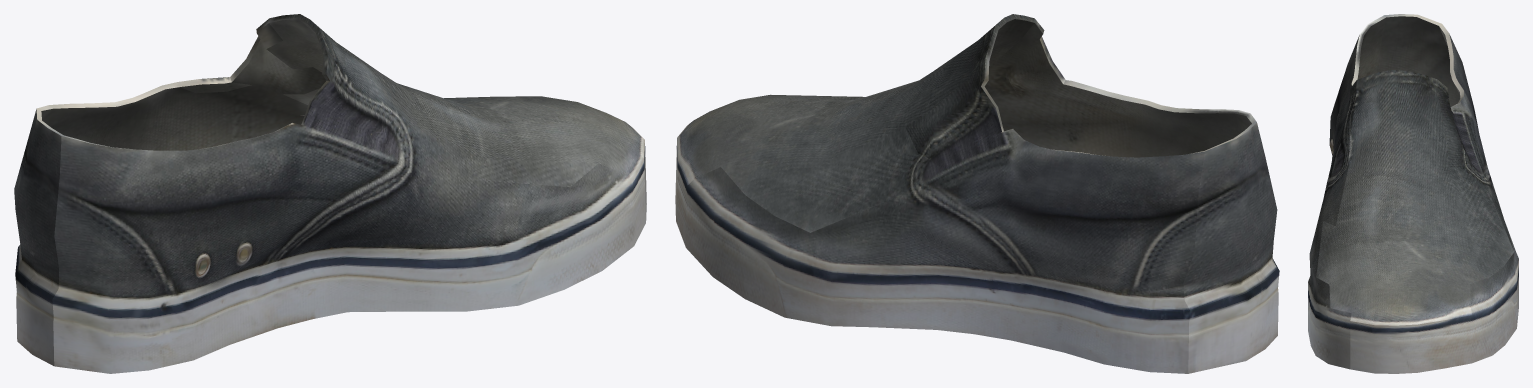
File: Leather_Shoe.glb
3 views of the same model, side by side, from view 1: azimuth 30°, elevation 25°; view 2: azimuth 150°, elevation 25°; view 3: azimuth 270°, elevation 25° (orthographic). The views are drawn at different scales.
Parts seen in each view (by area): view 1: origional; view 2: origional; view 3: origional.
Boxes of the visible parts, x1,y1,x2,y2 form: origional: [14, 14, 646, 373]; origional: [675, 14, 1279, 373]; origional: [1308, 14, 1518, 373].
Bounding box in the file's own units: 0.2679 × 0.12 × 0.1104.
2 materials, 2 textured.
